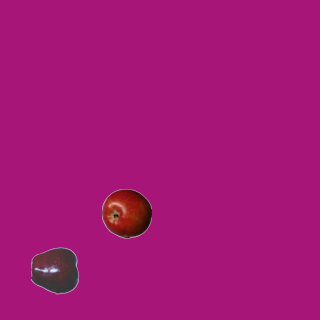Apple Braeburn: (101, 188, 151, 238)
Apple Red Delicious: (30, 245, 80, 295)
